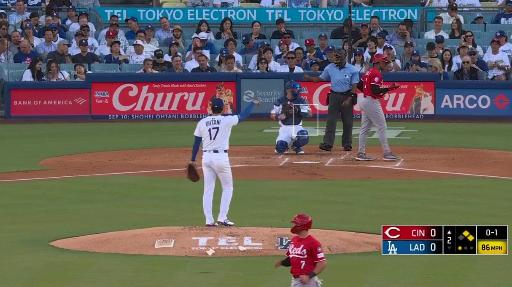pitcher: (186, 98, 261, 227)
